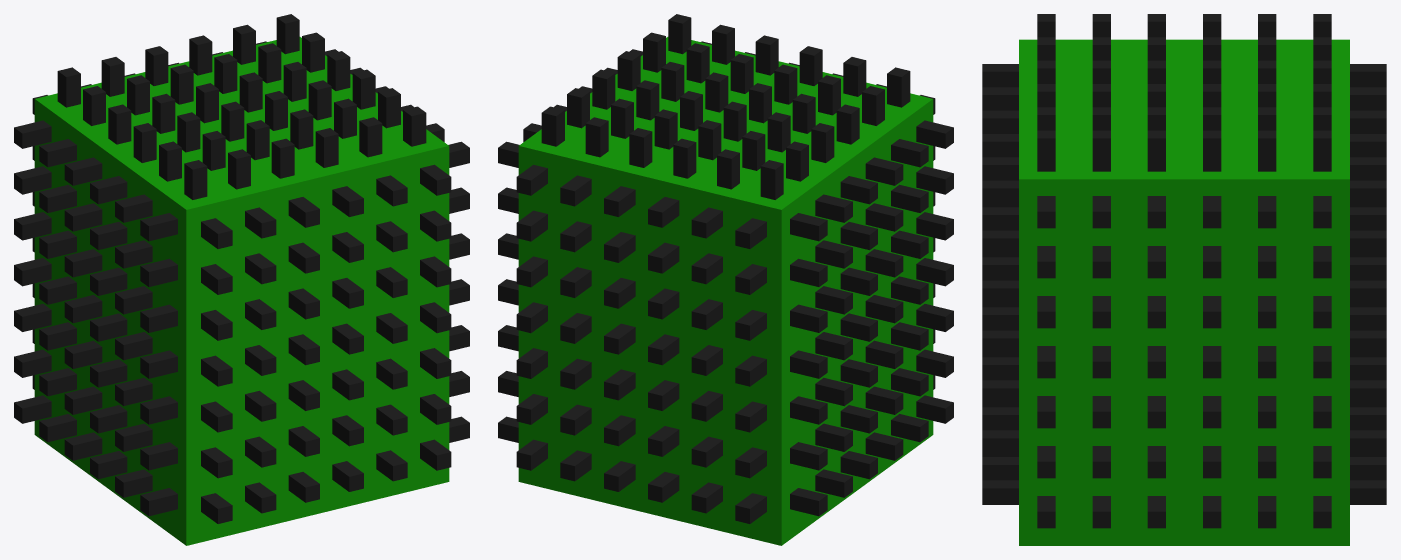
File: Cactus.obj
3 views of the same model, side by side, from view 1: azimuth 30°, elevation 25°; view 2: azimuth 150°, elevation 25°; view 3: azimuth 270°, elevation 25° (orthographic). The views are drawn at different scales.
Size of the model in its own units: 22 by 24 by 22.
Materials: 1 (1 with a texture image).
